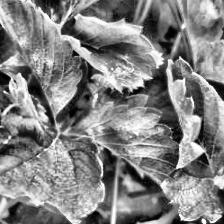Powdery Mildew Leaf: (0, 71, 104, 223), (64, 85, 180, 184), (0, 0, 88, 127), (60, 13, 158, 92), (169, 0, 224, 73)
